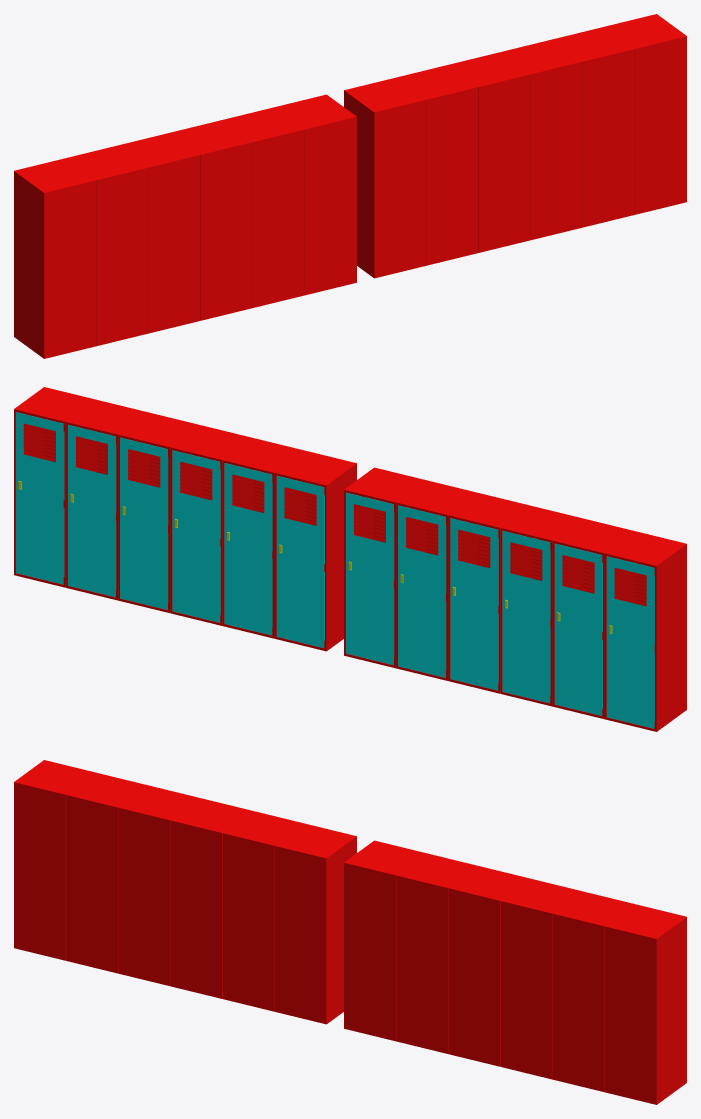
The model's file is Locker.fbx.
3 views of the same model, one above another, from view 1: azimuth 30°, elevation 25°; view 2: azimuth 150°, elevation 25°; view 3: azimuth 330°, elevation 25° (orthographic).
Parts seen in each view (by area): view 1: TallLockers1, TallLockers; view 2: TallLockers1, TallLockers; view 3: TallLockers, TallLockers1.
Boxes of the visible parts, x1=… form: TallLockers1: x1=14, y1=94, x2=356, y2=358; TallLockers: x1=344, y1=14, x2=686, y2=278; TallLockers1: x1=344, y1=467, x2=686, y2=731; TallLockers: x1=14, y1=387, x2=356, y2=651; TallLockers: x1=344, y1=840, x2=686, y2=1104; TallLockers1: x1=14, y1=760, x2=356, y2=1024.
Bounding box in the file's own units: 652 × 161 × 54.05.
